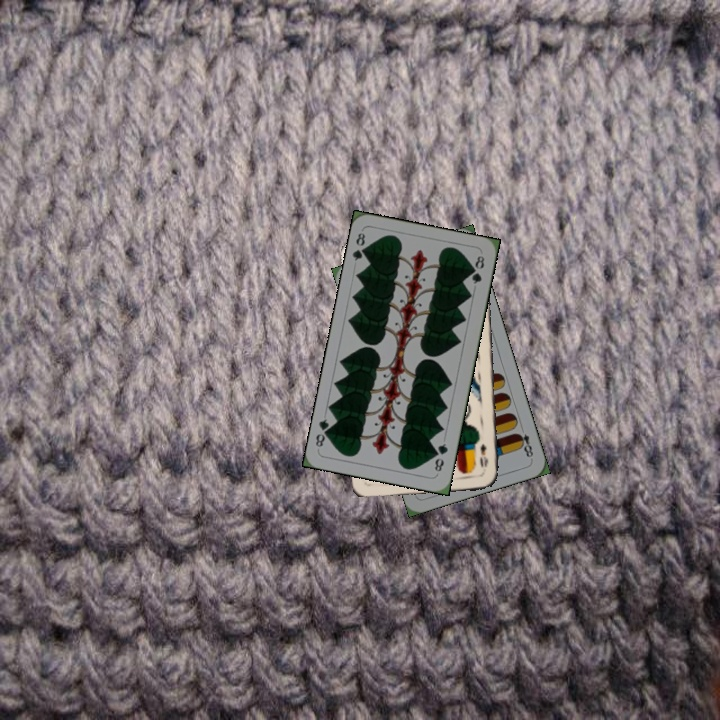E8: (513, 422, 536, 462)
EO: (476, 440, 491, 470)
G8: (348, 229, 370, 263), (431, 439, 450, 474)
